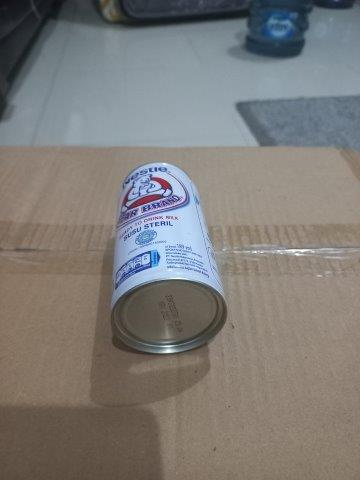kaleng: (109, 163, 228, 355)
kardus: (1, 144, 360, 480)
